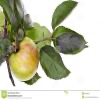Apple leaf: (39, 45, 72, 83), (51, 26, 91, 57), (50, 0, 82, 30)
